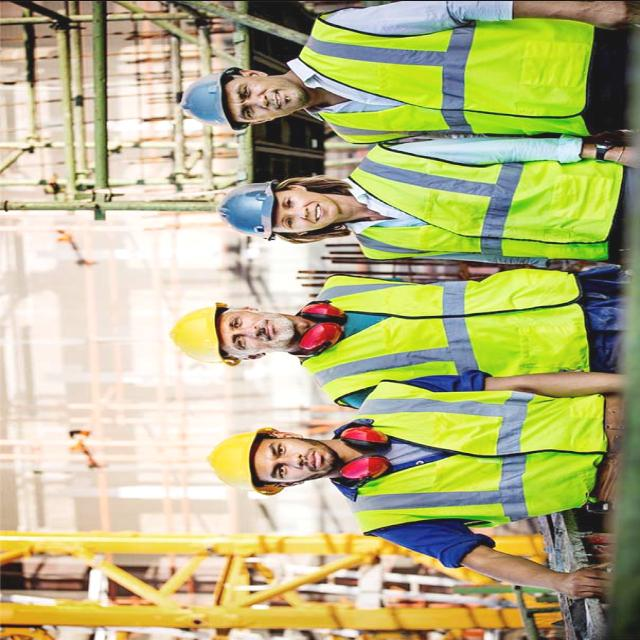Ear Muffs: (323, 420, 393, 488), (282, 290, 346, 360)
Hard Hat: (197, 418, 285, 496), (163, 292, 242, 366), (174, 61, 247, 133), (206, 174, 281, 244)
Reflective Vest: (292, 4, 602, 145), (327, 390, 619, 522), (294, 264, 590, 394), (334, 144, 622, 258)
